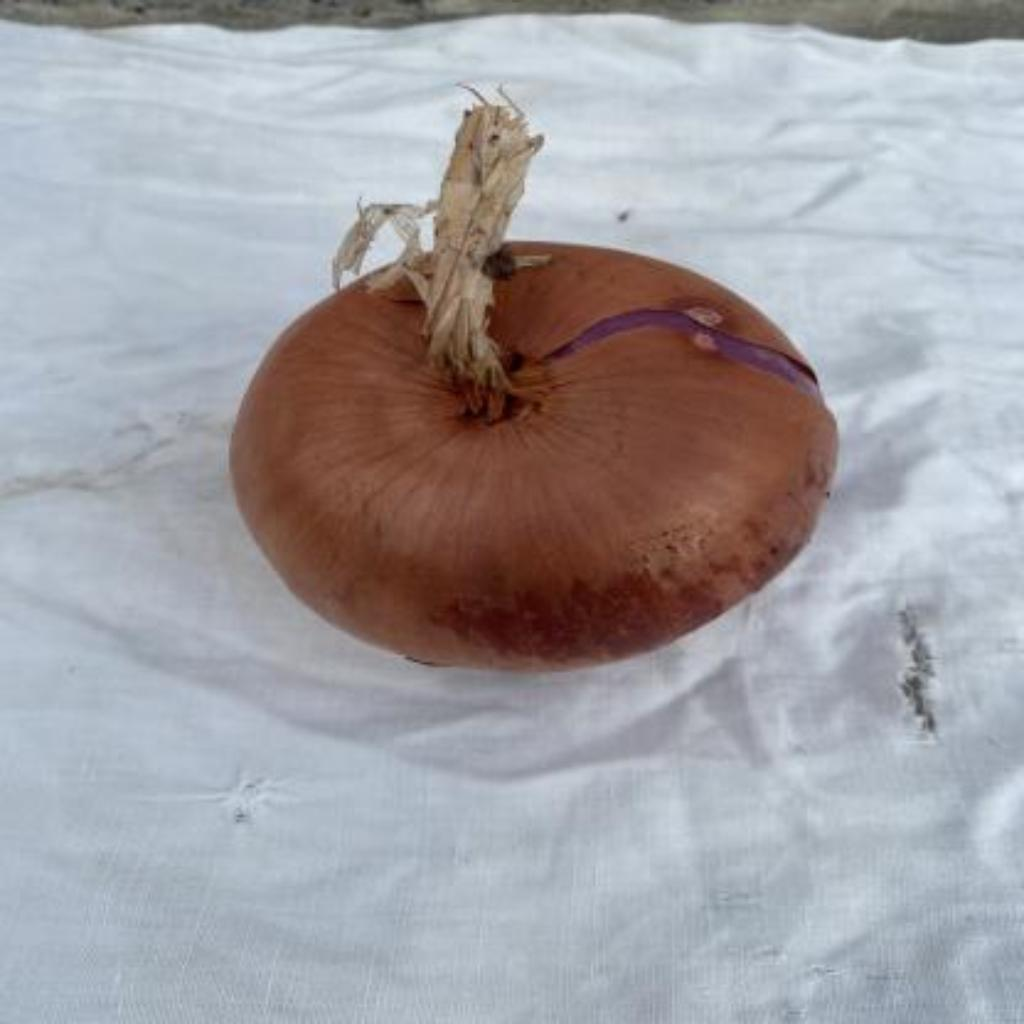Onion: (231, 89, 839, 671)
